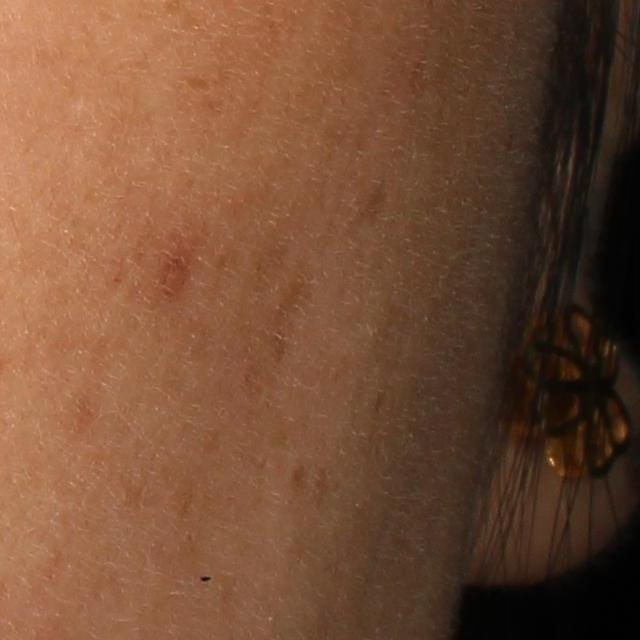melasma: (250, 237, 327, 366), (138, 223, 211, 310), (345, 178, 392, 240)
